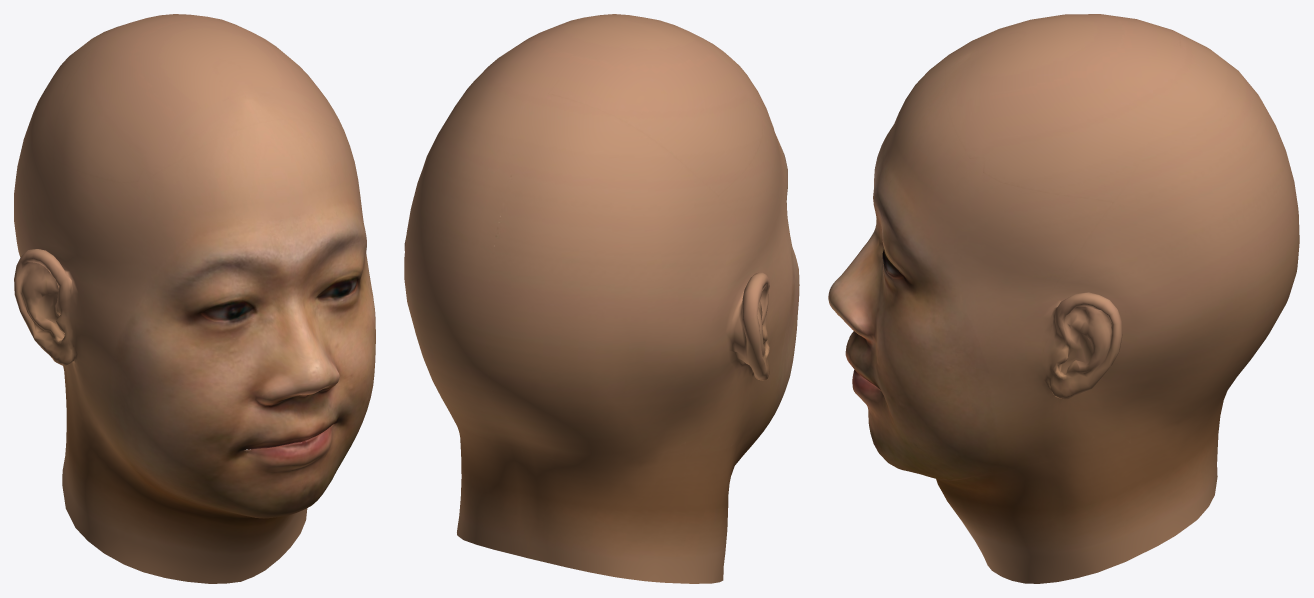
3 views of the same model, side by side, from view 1: azimuth 30°, elevation 25°; view 2: azimuth 150°, elevation 25°; view 3: azimuth 270°, elevation 25° (orthographic). The views are drawn at different scales.
Parts seen in each view (by area): view 1: HeadHires; view 2: HeadHires; view 3: HeadHires.
Part boxes in pixels (x1,y1,x2,y2): HeadHires: [14, 14, 375, 583]; HeadHires: [404, 14, 799, 583]; HeadHires: [828, 14, 1299, 583].
Bounding box in the file's own units: 189 × 283 × 228.
1 material, 1 textured.
